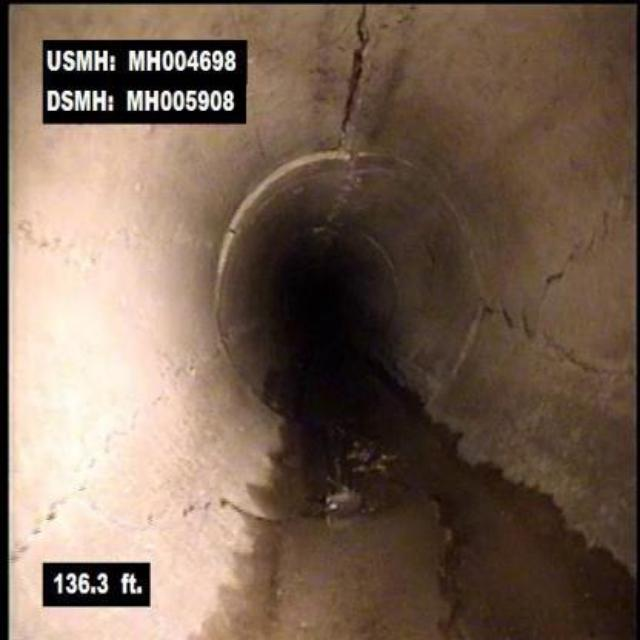Crack: (12, 477, 251, 532), (485, 305, 634, 378), (543, 191, 634, 297), (428, 482, 486, 638), (89, 391, 168, 474), (332, 6, 377, 138), (20, 220, 100, 274)
